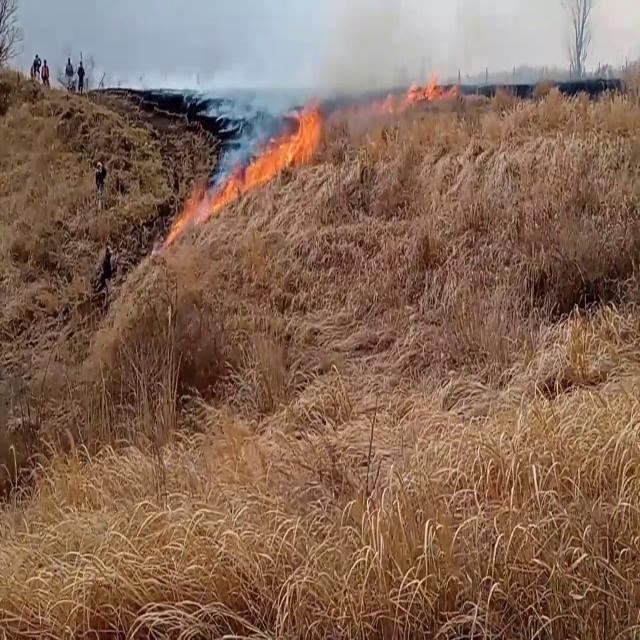Fire: (217, 92, 331, 194), (389, 63, 442, 102)
